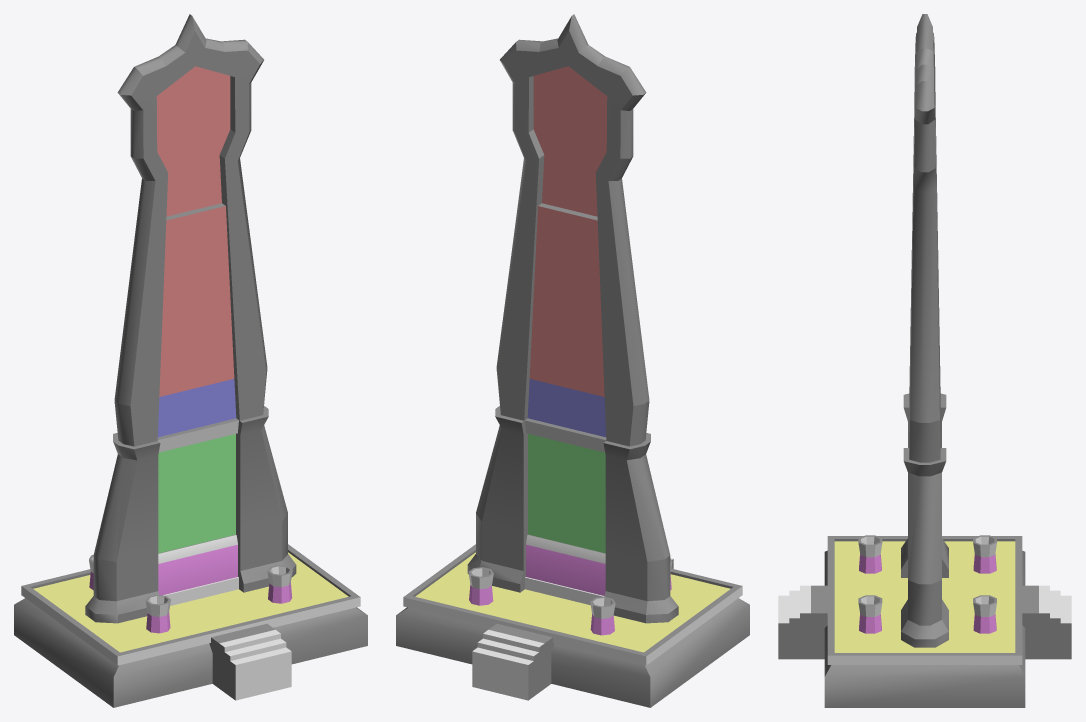
The model's file is DElf_Guard_1.gltf.
The picture shows the model from 3 angles, left to right: view 1: azimuth 30°, elevation 25°; view 2: azimuth 150°, elevation 25°; view 3: azimuth 270°, elevation 25°; orthographic projection.
Visible parts, largest first — view 1: DElf_Guard_1; view 2: DElf_Guard_1; view 3: DElf_Guard_1.
Part boxes in pixels (x1,y1,x2,y2): DElf_Guard_1: (14,14,367,707); DElf_Guard_1: (396,14,749,707); DElf_Guard_1: (778,14,1071,707).
Bounding box in the file's own units: 4.34 × 10.21 × 4.3.
